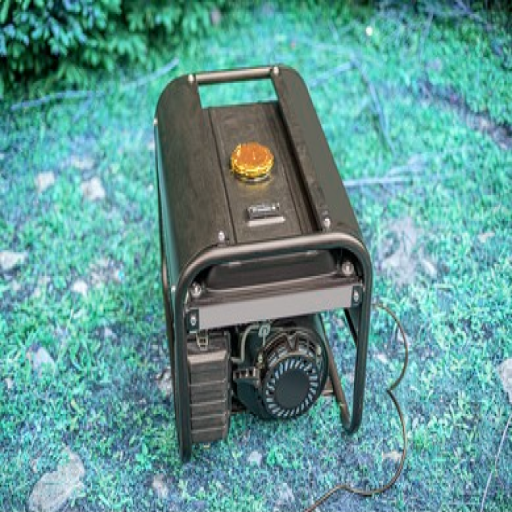portable_generator: (154, 65, 375, 465)
